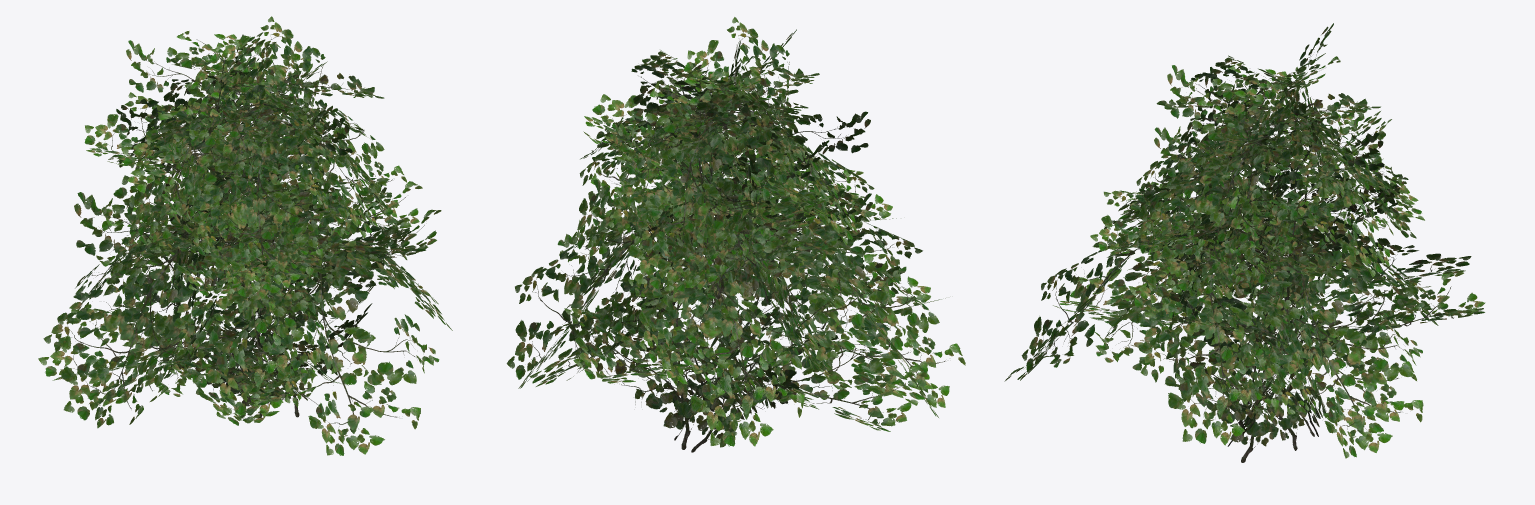
Rendered from Round_Leaf_Bush_med_yellow.fbx.
The picture shows the model from 3 angles, left to right: view 1: azimuth 30°, elevation 25°; view 2: azimuth 150°, elevation 25°; view 3: azimuth 270°, elevation 25°; orthographic projection. The views are drawn at different scales.
Parts seen in each view (by area): view 1: leaf_Round_Leaf_Bush_med_y_mesh; view 2: leaf_Round_Leaf_Bush_med_y_mesh; view 3: leaf_Round_Leaf_Bush_med_y_mesh.
Part boxes in pixels (box(x1,y1,x2,y2)): leaf_Round_Leaf_Bush_med_y_mesh: box(38, 16, 452, 455); leaf_Round_Leaf_Bush_med_y_mesh: box(506, 17, 965, 452); leaf_Round_Leaf_Bush_med_y_mesh: box(1004, 23, 1485, 462).
Size of the model in its own units: 2.59 by 2.45 by 2.95.
1 material, 1 textured.
